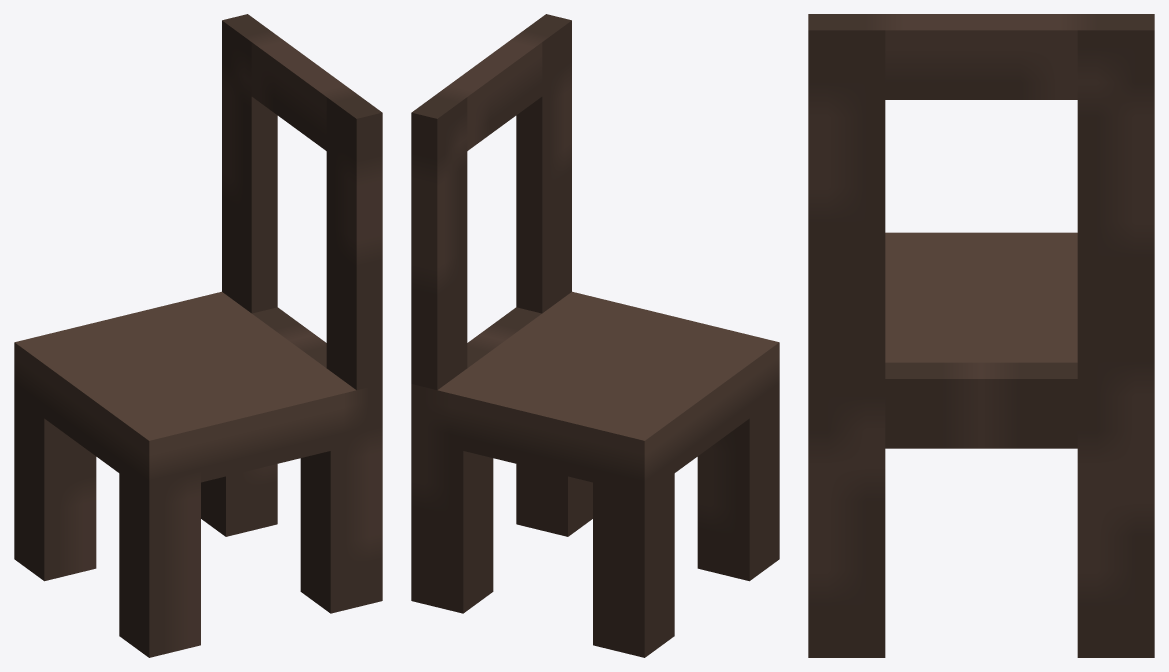
File: Chair_Wooden_00.fbx
3 renders of one model, left to right at view 1: azimuth 30°, elevation 25°; view 2: azimuth 150°, elevation 25°; view 3: azimuth 270°, elevation 25°, orthographic. The views are drawn at different scales.
Parts seen in each view (by area): view 1: Chair_Wooden_00; view 2: Chair_Wooden_00; view 3: Chair_Wooden_00.
Part boxes in pixels (x1,y1,x2,y2): Chair_Wooden_00: (14,14,382,657); Chair_Wooden_00: (411,14,779,657); Chair_Wooden_00: (808,14,1154,657).
Size of the model in its own units: 45 by 90 by 45.
